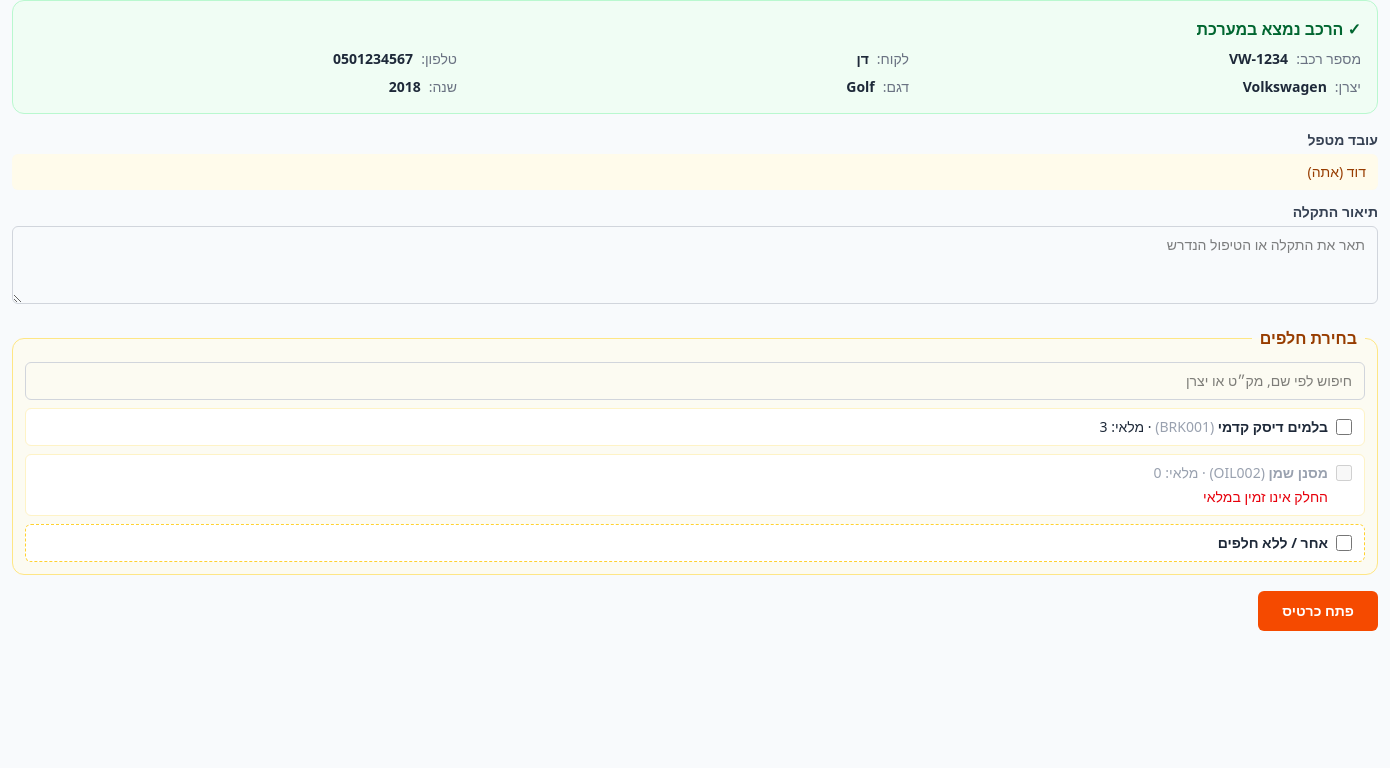
it: PartsSelection — compatible parts in the ticket flow › allows selecting an available part and reveals a quantity control
The width and height of the screenshot is (1390, 768).
Click the checkbox labelled "בלמים דיסק קדמי": (1344, 427) [1336,419,1352,435]
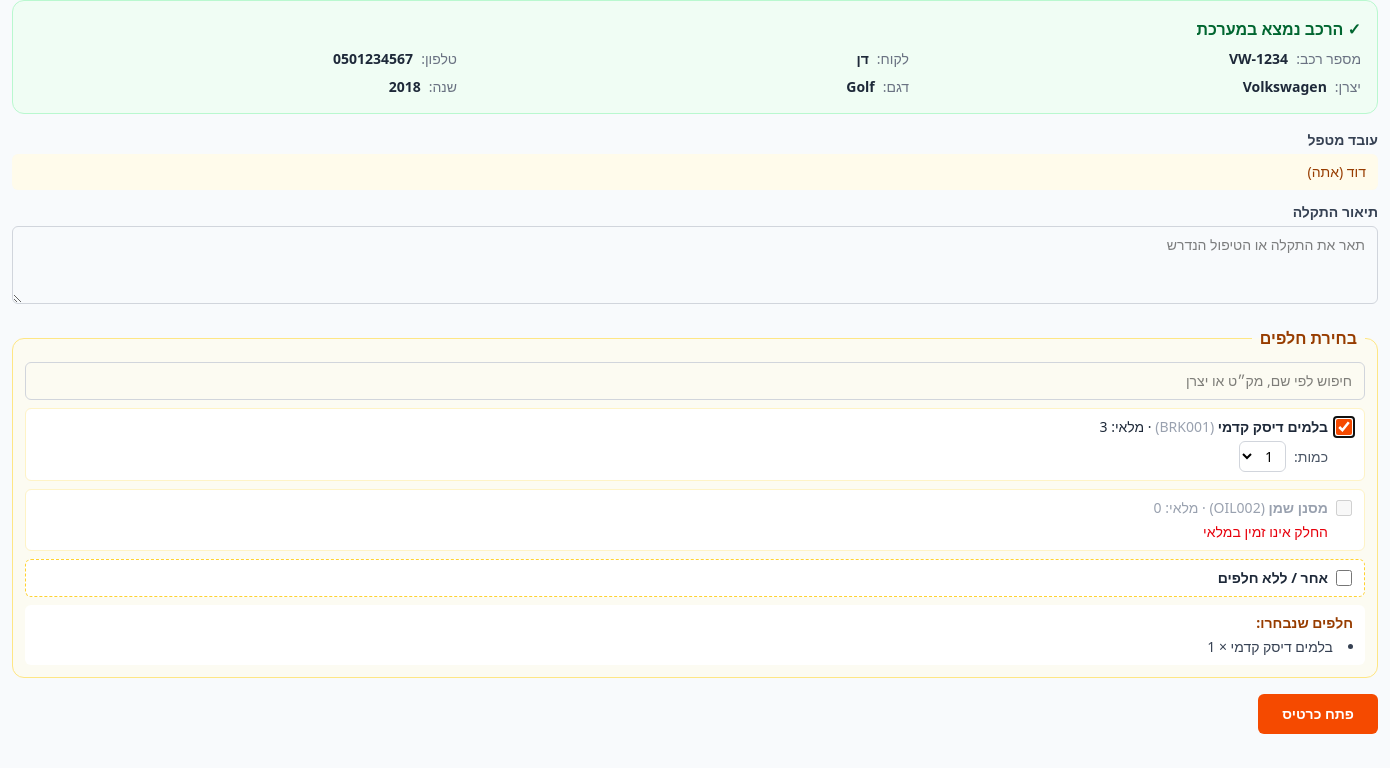
Result: the checkbox labelled "בלמים דיסק קדמי" is checked at [1336,419,1352,435]
Result: the dropdown named "כמות עבור בלמים דיסק קדמי" is shown at [1239,441,1286,472]
